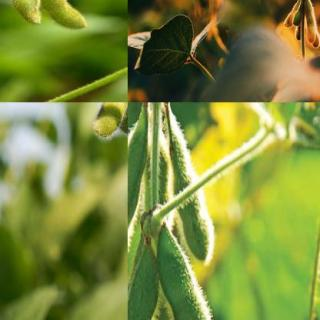soya: (157, 227, 235, 319), (170, 115, 215, 263), (128, 118, 148, 274), (128, 251, 158, 319), (35, 0, 91, 30), (91, 102, 127, 140), (12, 0, 44, 25), (303, 0, 315, 44), (292, 0, 306, 26), (283, 10, 292, 28), (312, 34, 320, 49), (296, 28, 300, 42)
